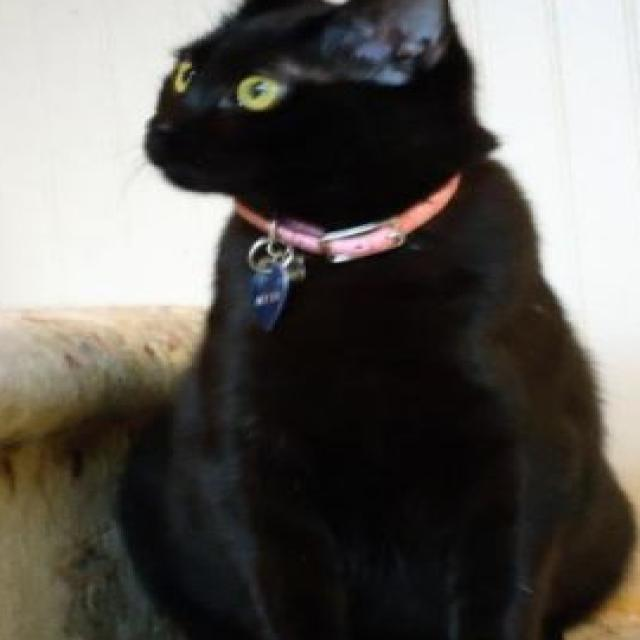Bombay: (114, 0, 640, 640)
